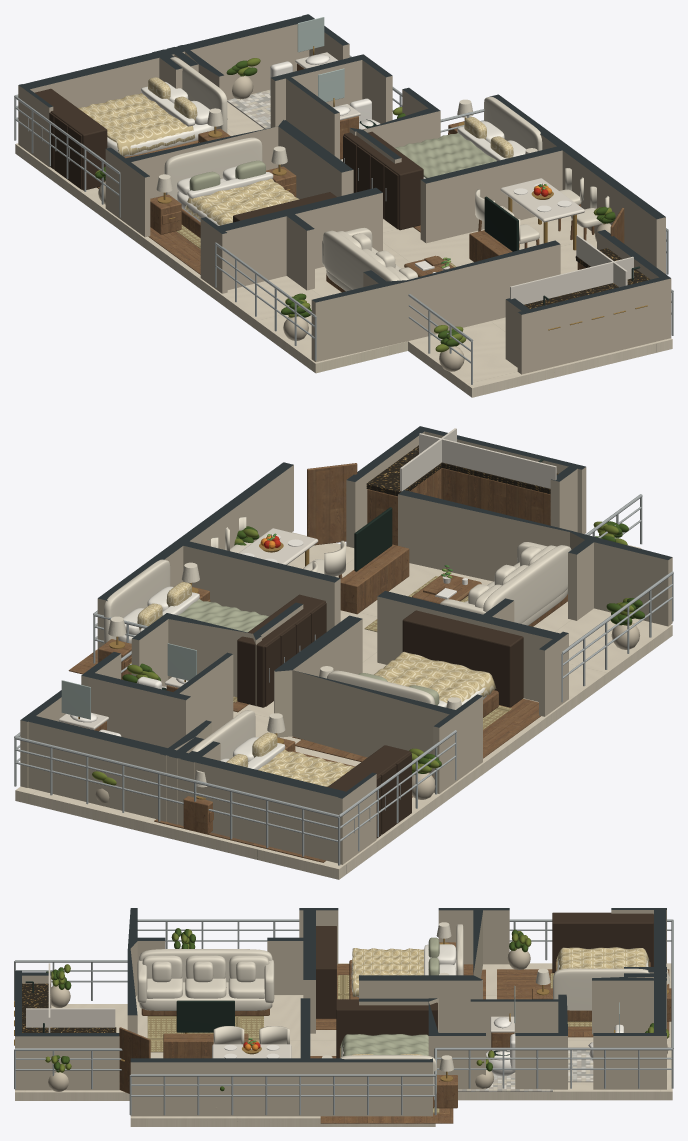
3 views of the same model, one above another, from view 1: azimuth 30°, elevation 25°; view 2: azimuth 150°, elevation 25°; view 3: azimuth 270°, elevation 25° (orthographic). The views are drawn at different scales.
Visible parts, largest first — view 1: Source-traced internal and perimeter walls • Wall, Continuous apartment foundation, Soft jacquard duvet with folds, Padded headboard.001, Soft jacquard duvet with folds.001, Soft jacquard duvet with folds.002, Backsplash.001, Fitted dark wardrobe, Fitted dark wardrobe.002, Sofa back, Padded headboard.002, Dining top (+17 smaller); view 2: Source-traced internal and perimeter walls • Wall, Continuous apartment foundation, Fitted dark wardrobe.001, Base cabinets.001, Soft jacquard duvet with folds.001, Sofa back, Oak entrance door, Backsplash.001, Fitted dark wardrobe.002, Walnut media console, Padded headboard.002, Soft jacquard duvet with folds (+20 smaller); view 3: Source-traced internal and perimeter walls • Wall, Continuous apartment foundation, Fitted dark wardrobe, Fitted dark wardrobe.002, Soft jacquard duvet with folds.001, Fitted dark wardrobe.001, Padded headboard, Soft jacquard duvet with folds, Television, Soft jacquard duvet with folds.002, Backsplash, Full bedroom wood flooring (+42 smaller).
Boxes of the visible parts, left/top/right/bottom form: Source-traced internal and perimeter walls • Wall: left=18, top=14, right=671, bottom=374; Continuous apartment foundation: left=15, top=102, right=672, bottom=397; Soft jacquard duvet with folds: left=78, top=93, right=194, bottom=155; Padded headboard.001: left=164, top=137, right=262, bottom=199; Soft jacquard duvet with folds.001: left=185, top=178, right=299, bottom=225; Soft jacquard duvet with folds.002: left=394, top=133, right=496, bottom=178; Backsplash.001: left=510, top=256, right=633, bottom=304; Fitted dark wardrobe: left=34, top=88, right=107, bottom=190; Fitted dark wardrobe.002: left=343, top=128, right=423, bottom=230; Sofa back: left=323, top=230, right=399, bottom=289; Padded headboard.002: left=484, top=96, right=542, bottom=150; Dining top: left=500, top=178, right=584, bottom=222; Source-traced internal and perimeter walls • Wall: left=20, top=426, right=672, bottom=864; Continuous apartment foundation: left=15, top=532, right=672, bottom=879; Fitted dark wardrobe.001: left=402, top=610, right=523, bottom=707; Base cabinets.001: left=441, top=468, right=550, bottom=525; Soft jacquard duvet with folds.001: left=374, top=651, right=496, bottom=703; Sofa back: left=483, top=545, right=571, bottom=623; Oak entrance door: left=307, top=463, right=357, bottom=545; Backsplash.001: left=419, top=433, right=556, bottom=488; Fitted dark wardrobe.002: left=237, top=594, right=325, bottom=707; Walnut media console: left=340, top=544, right=409, bottom=614; Padded headboard.002: left=104, top=559, right=170, bottom=643; Soft jacquard duvet with folds: left=258, top=749, right=354, bottom=786; Source-traced internal and perimeter walls • Wall: left=15, top=908, right=666, bottom=1116; Continuous apartment foundation: left=15, top=963, right=672, bottom=1126; Fitted dark wardrobe: left=552, top=912, right=653, bottom=972; Fitted dark wardrobe.002: left=336, top=999, right=437, bottom=1058; Soft jacquard duvet with folds.001: left=351, top=948, right=424, bottom=996; Fitted dark wardrobe.001: left=316, top=926, right=336, bottom=1018; Padded headboard: left=553, top=968, right=649, bottom=1010; Soft jacquard duvet with folds: left=556, top=947, right=649, bottom=970; Television: left=176, top=1000, right=234, bottom=1032; Soft jacquard duvet with folds.002: left=340, top=1034, right=428, bottom=1056; Backsplash: left=26, top=1008, right=115, bottom=1027; Full bedroom wood flooring: left=497, top=969, right=591, bottom=1031.
Bounding box in the file's own units: 7.31 × 1.7 × 12.46.
Materials: 26 (6 with a texture image).
